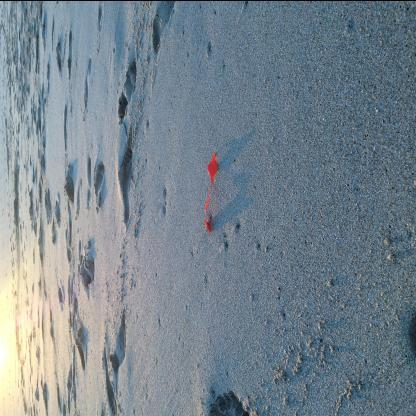plastik: (206, 152, 220, 233)
